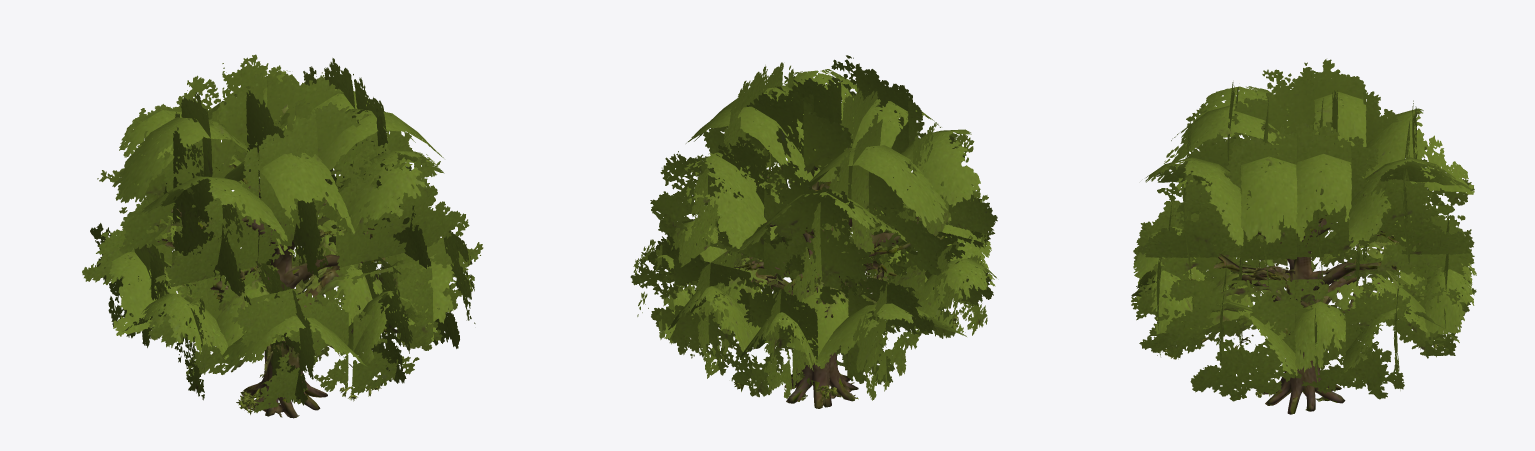
The model's file is oak-elder-near.glb.
The picture shows the model from 3 angles, left to right: view 1: azimuth 30°, elevation 25°; view 2: azimuth 150°, elevation 25°; view 3: azimuth 270°, elevation 25°; orthographic projection. The views are drawn at different scales.
Parts seen in each view (by area): view 1: Foliage, Wood; view 2: Foliage, Wood; view 3: Foliage, Wood.
Part boxes in pixels (bbox=[...]): Foliage: bbox=[82, 54, 483, 412]; Wood: bbox=[156, 160, 386, 418]; Foliage: bbox=[630, 55, 997, 400]; Wood: bbox=[721, 165, 959, 408]; Foliage: bbox=[1131, 59, 1476, 401]; Wood: bbox=[1162, 128, 1453, 414].
Size of the model in its own units: 14.73 by 12.39 by 15.27.
2 materials, 2 textured.
